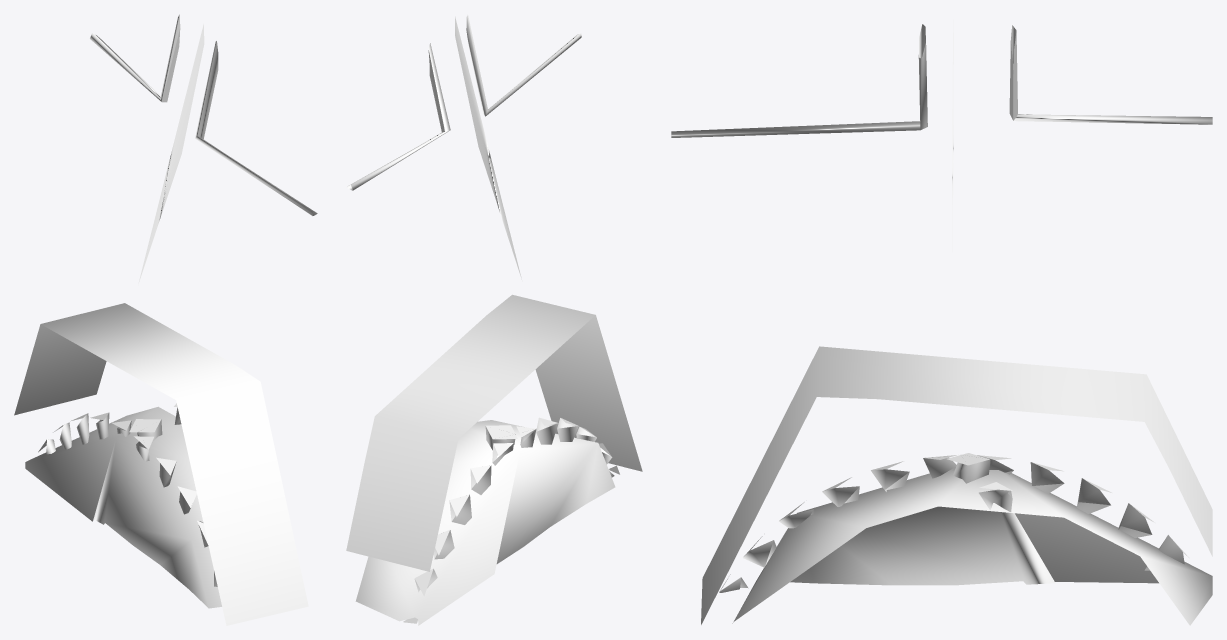
3 views of the same model, side by side, from view 1: azimuth 30°, elevation 25°; view 2: azimuth 150°, elevation 25°; view 3: azimuth 270°, elevation 25° (orthographic). The views are drawn at different scales.
Size of the model in its own units: 0.2869 by 1.66 by 1.33.
1 material, 1 textured.
